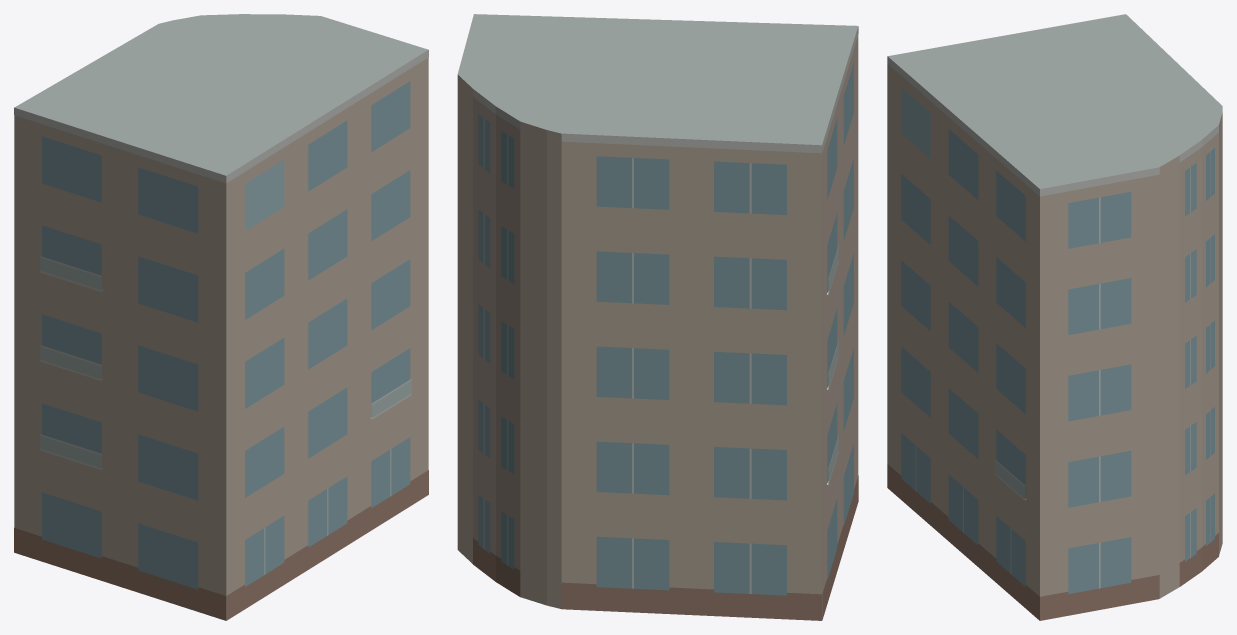
The model's file is survey-upis-32582852.glb.
3 renders of one model, left to right at view 1: azimuth 30°, elevation 25°; view 2: azimuth 150°, elevation 25°; view 3: azimuth 270°, elevation 25°, orthographic. The views are drawn at different scales.
Visible parts, largest first — view 1: survey-upis-32582852.tmp; view 2: survey-upis-32582852.tmp; view 3: survey-upis-32582852.tmp.
Part boxes in pixels (x1,y1,x2,y2): survey-upis-32582852.tmp: (14, 14, 428, 620); survey-upis-32582852.tmp: (457, 14, 858, 620); survey-upis-32582852.tmp: (887, 14, 1222, 620).
Size of the model in its own units: 12.54 by 14.4 by 10.14.
